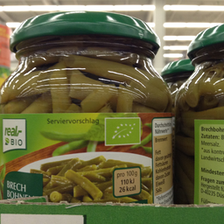beans: (4, 11, 178, 207)
